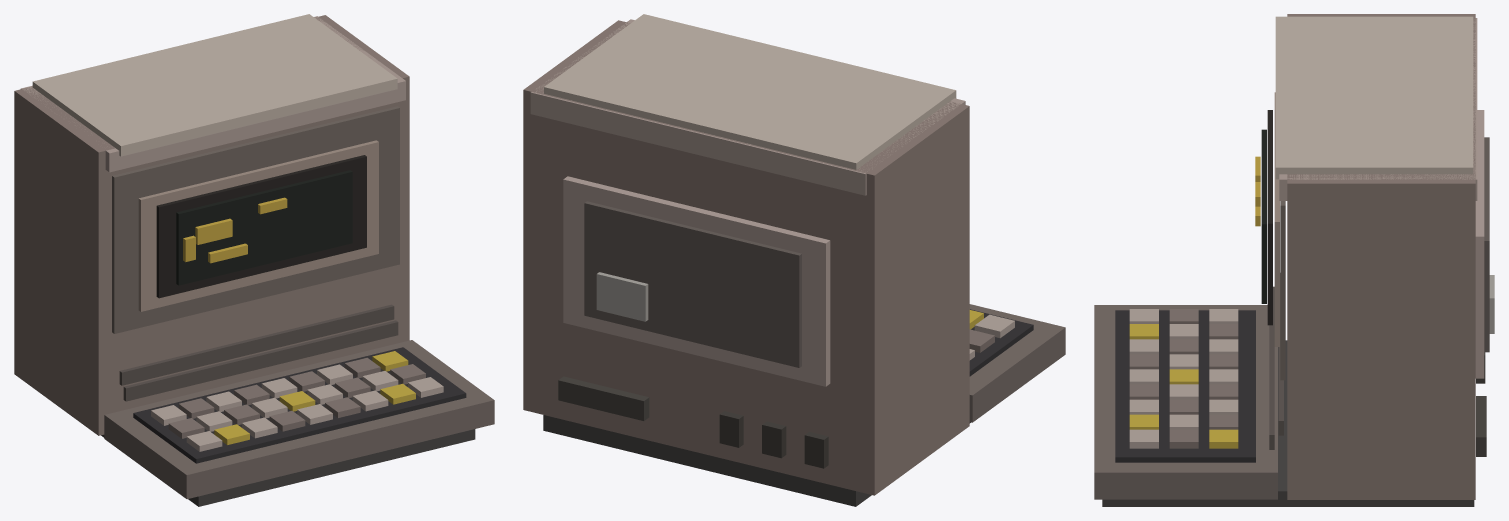
Rendered from CMU3DOverwatchCRTTerminal.glb.
3 renders of one model, left to right at view 1: azimuth 30°, elevation 25°; view 2: azimuth 150°, elevation 25°; view 3: azimuth 270°, elevation 25°, orthographic. The views are drawn at different scales.
Parts seen in each view (by area): view 1: terminal main shell, top cap highlight, monitor front bezel, keyboard base, CRT display, lower CRT face slope (×2), monitor inner raised rim, screen black surround, dark keyboard tray, upper monitor cap, terminal foot, amber tactical display (+1 smaller); view 2: terminal main shell, top cap highlight, rear service hatch, rear service hatch border, upper monitor cap, terminal foot, keyboard base, rear lower vent (×3), rear connector recess, rear pale service label, dark keyboard tray, separate keyboard key; view 3: terminal main shell, top cap highlight, keyboard base, separate keyboard key (×27), dark keyboard tray, terminal foot, rear service hatch border, upper monitor cap, lower CRT face slope (×2), rear service hatch, screen black surround, monitor inner raised rim (+3 smaller).
Part boxes in pixels (x1,y1,x2,y2): terminal main shell: [14, 15, 409, 435]; top cap highlight: [32, 14, 397, 156]; monitor front bezel: [112, 106, 399, 333]; keyboard base: [104, 340, 494, 499]; CRT display: [176, 170, 352, 285]; lower CRT face slope (×2): [119, 304, 398, 401]; monitor inner raised rim: [138, 140, 378, 311]; screen black surround: [156, 155, 366, 298]; dark keyboard tray: [133, 347, 466, 463]; upper monitor cap: [21, 16, 405, 172]; terminal foot: [101, 429, 475, 506]; amber tactical display: [195, 218, 232, 244]; terminal main shell: [523, 20, 969, 495]; top cap highlight: [544, 14, 956, 169]; rear service hatch: [584, 201, 801, 367]; rear service hatch border: [563, 176, 830, 386]; upper monitor cap: [530, 19, 965, 195]; terminal foot: [543, 415, 970, 506]; keyboard base: [969, 304, 1065, 422]; rear lower vent (×3): [719, 411, 828, 468]; rear connector recess: [558, 376, 649, 420]; rear pale service label: [596, 272, 648, 321]; dark keyboard tray: [969, 309, 1033, 376]; separate keyboard key: [974, 314, 1014, 338]; terminal main shell: [1287, 14, 1475, 499]; top cap highlight: [1275, 16, 1473, 179]; keyboard base: [1094, 305, 1277, 499]; separate keyboard key (×27): [1129, 309, 1238, 448]; dark keyboard tray: [1115, 310, 1255, 462]; terminal foot: [1102, 340, 1474, 506]; rear service hatch border: [1475, 110, 1484, 378]; upper monitor cap: [1279, 18, 1477, 200]; lower CRT face slope (×2): [1269, 273, 1283, 449]; rear service hatch: [1484, 137, 1489, 352]; screen black surround: [1267, 110, 1272, 325]; monitor inner raised rim: [1274, 92, 1279, 346].
Bounding box in the file's own units: 0.6869 × 0.6413 × 0.686.
